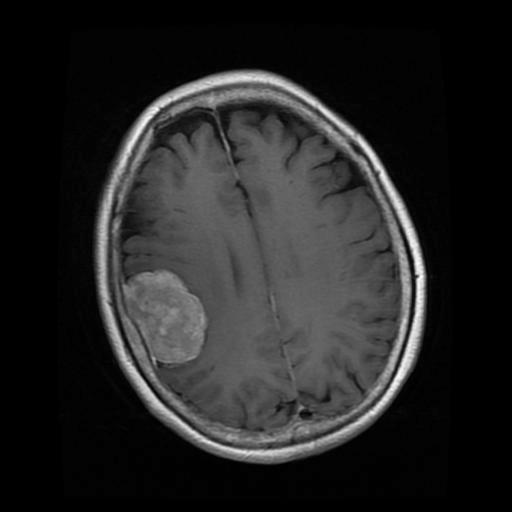Tumour-Meningioma: (112, 271, 227, 368)
